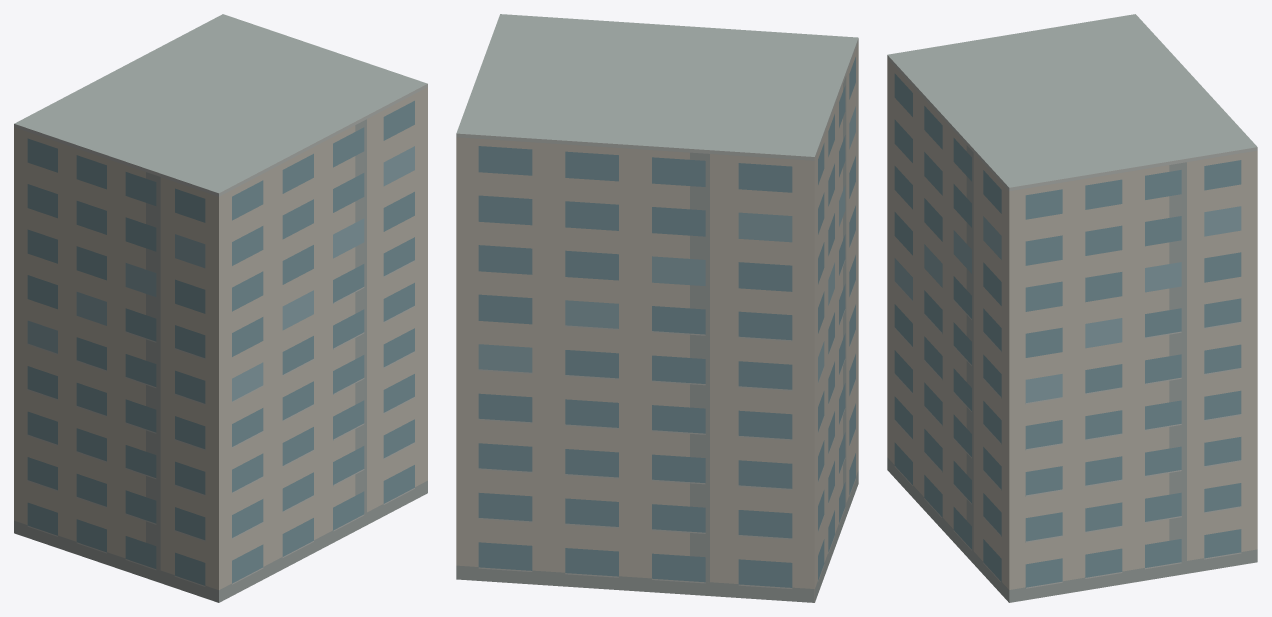
Rendered from residential-1048b0a8-4b6c-43fe-9699-e6a63d4f5a10.glb.
3 views of the same model, side by side, from view 1: azimuth 30°, elevation 25°; view 2: azimuth 150°, elevation 25°; view 3: azimuth 270°, elevation 25° (orthographic). The views are drawn at different scales.
Visible parts, largest first — view 1: residential-1048b0a8-4b6c-43fe-9699-e6a63d4f5a10.tmp; view 2: residential-1048b0a8-4b6c-43fe-9699-e6a63d4f5a10.tmp; view 3: residential-1048b0a8-4b6c-43fe-9699-e6a63d4f5a10.tmp.
Part boxes in pixels (x1,y1,x2,y2): residential-1048b0a8-4b6c-43fe-9699-e6a63d4f5a10.tmp: (14,14,427,602); residential-1048b0a8-4b6c-43fe-9699-e6a63d4f5a10.tmp: (456,14,858,602); residential-1048b0a8-4b6c-43fe-9699-e6a63d4f5a10.tmp: (887,14,1257,602).
Bounding box in the file's own units: 26.04 × 29 × 23.47.
